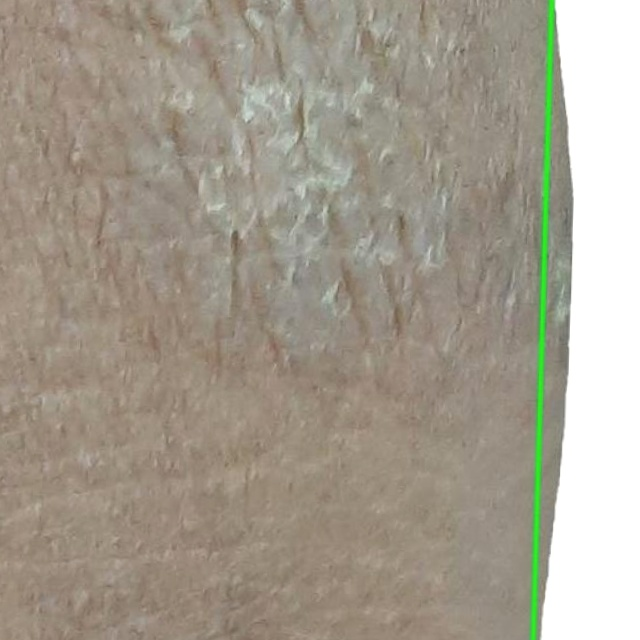Tinea Corporis: (533, 0, 639, 639)
